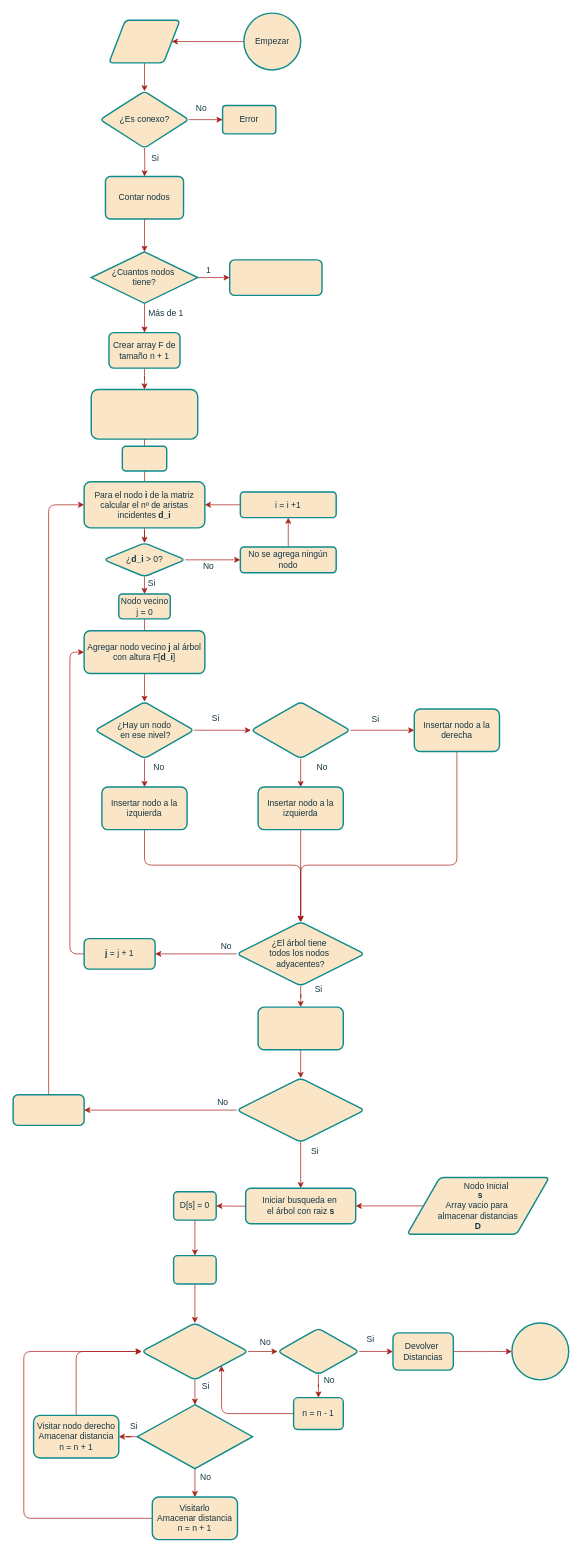
Image size: 581x1552. Some labels were removed from this diagram. Here are the shapes that lost their labels. From the top down, the centre of each, then its label:
the point at 144,41: Grafo
the point at 275,277: Montículo de Fibonacci con un solo Nodo
the point at 144,413: Rellenar F con los la secuencia de Fibonacci F[a] = F[a-1] + F[a-2]
the point at 144,458: Árbol i = 0
the point at 300,730: ¿Es mayor que el ya hay?
the point at 300,1028: Contar arboles
the point at 48,1110: i = i + 1
the point at 300,1109: ¿Hay un árbol por cada nodo del grafo?
the point at 195,1269: Nivel n = 0
the point at 194,1351: ¿Hay hijos sin visitar en n ?
the point at 318,1351: ¿ n = 0?
the point at 540,1351: Fin
the point at 194,1436: ¿Se ha visitado el hijo izquierdo?
